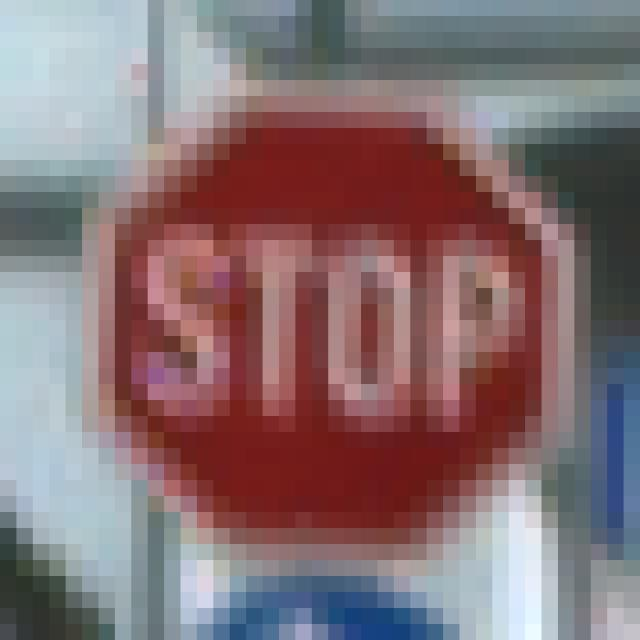STOP: (83, 81, 559, 561)
